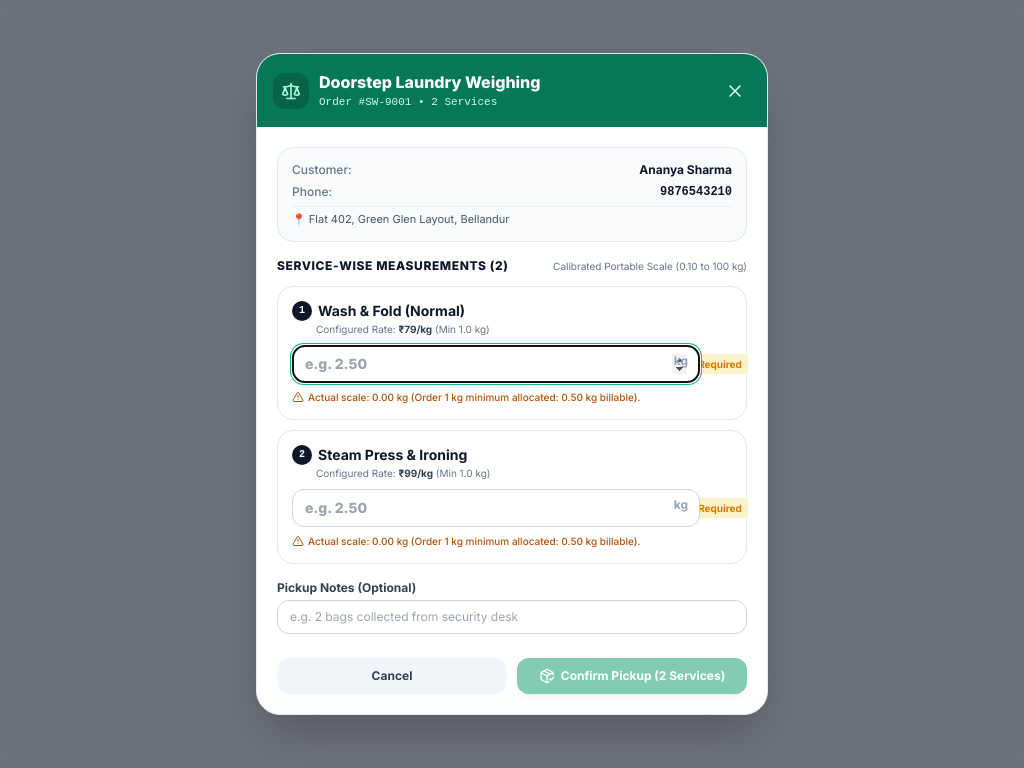
Test: Service-Wise Weighing, Order Calculation & Invoice Workflow (Section 6 Verification) › 15. DoorstepWeighingModal displays separate scale inputs for each service and enforces 2 decimals
The width and height of the screenshot is (1024, 768).
expect the text "Wash & Fold (Normal)" is shown: met, box [318,301,465,321]
expect the text "Steam Press & Ironing" is shown: met, box [318,445,467,465]
Type "1.234" into the number field with test id "scale-input-item-001" at [496, 364], box [292,345,700,383]
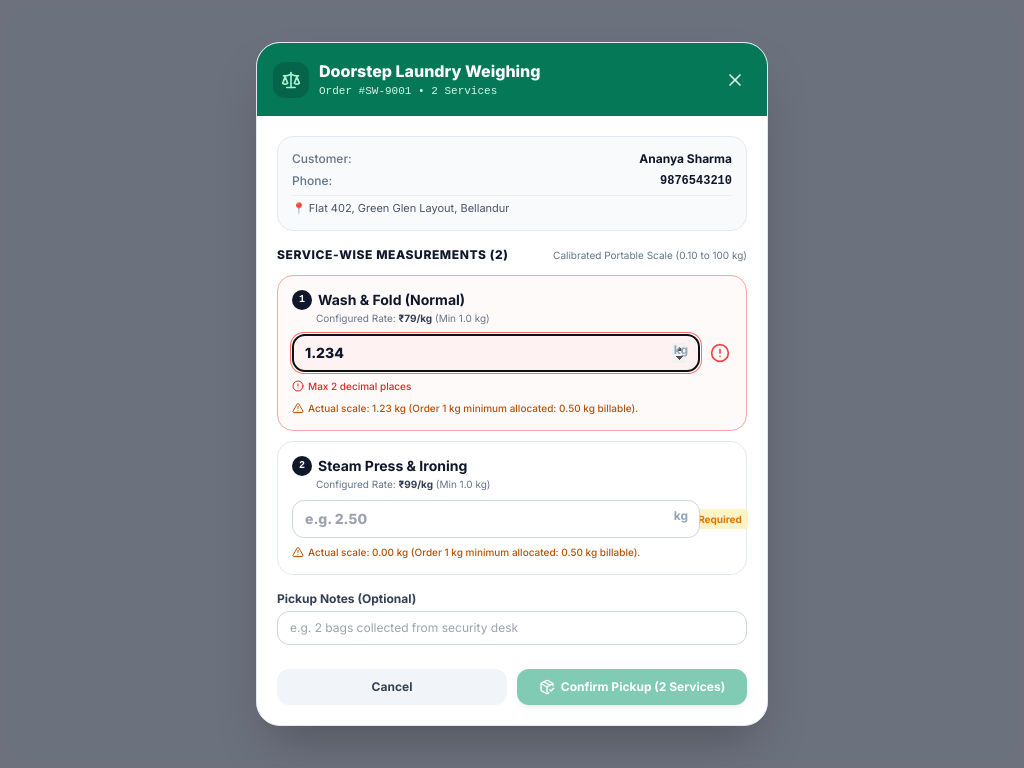
expect the text "Max 2 decimal places" is shown: met, box [308,378,411,394]
Replace the text in the number field with test id "scale-input-item-001" with "1.25" at [496, 353], box [292,334,700,372]
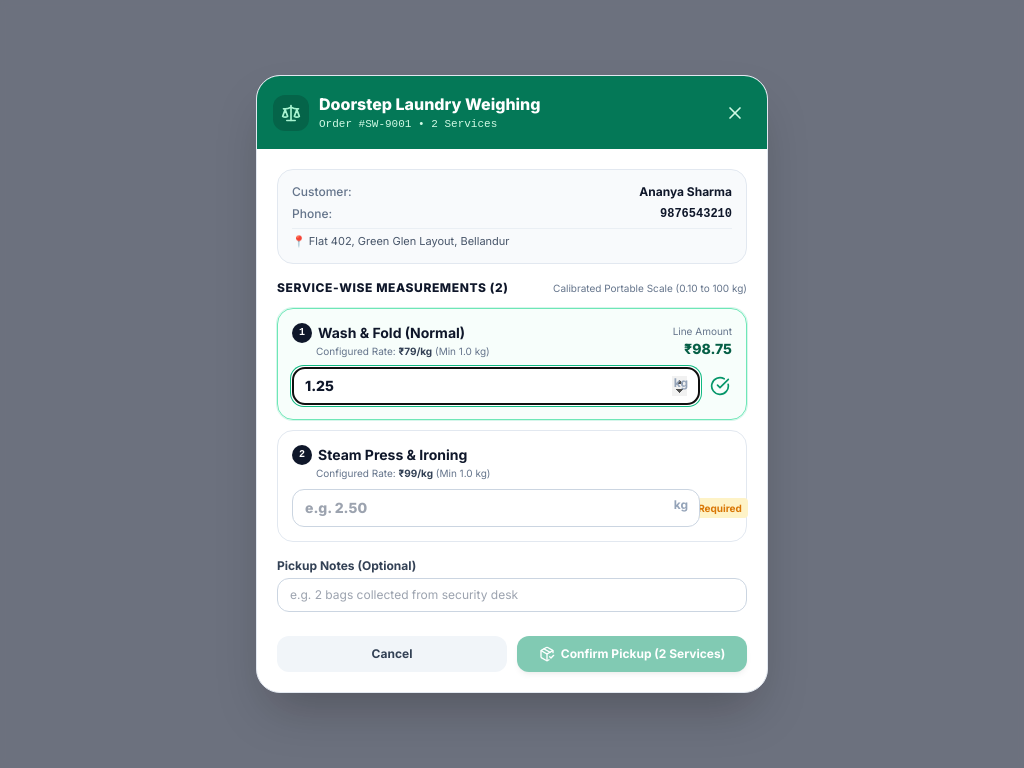
expect the text "Max 2 decimal places" is gone: met
